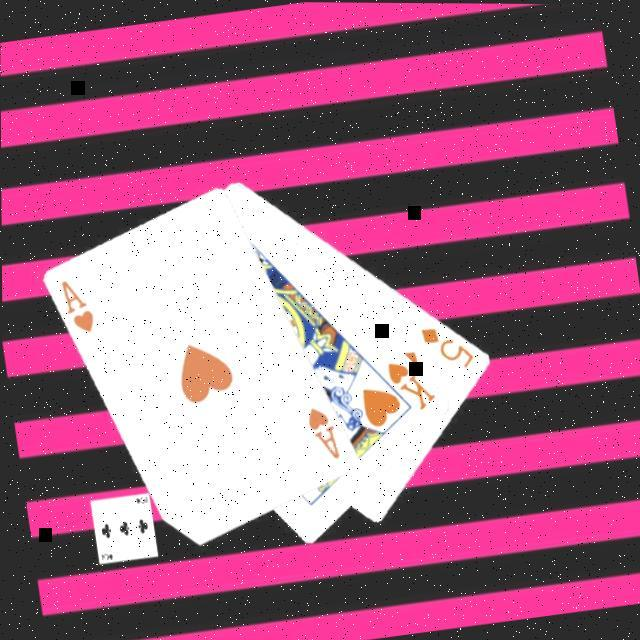5D: (415, 318, 478, 377)
AH: (56, 274, 98, 339), (301, 402, 343, 466)
KH: (382, 354, 440, 418)
